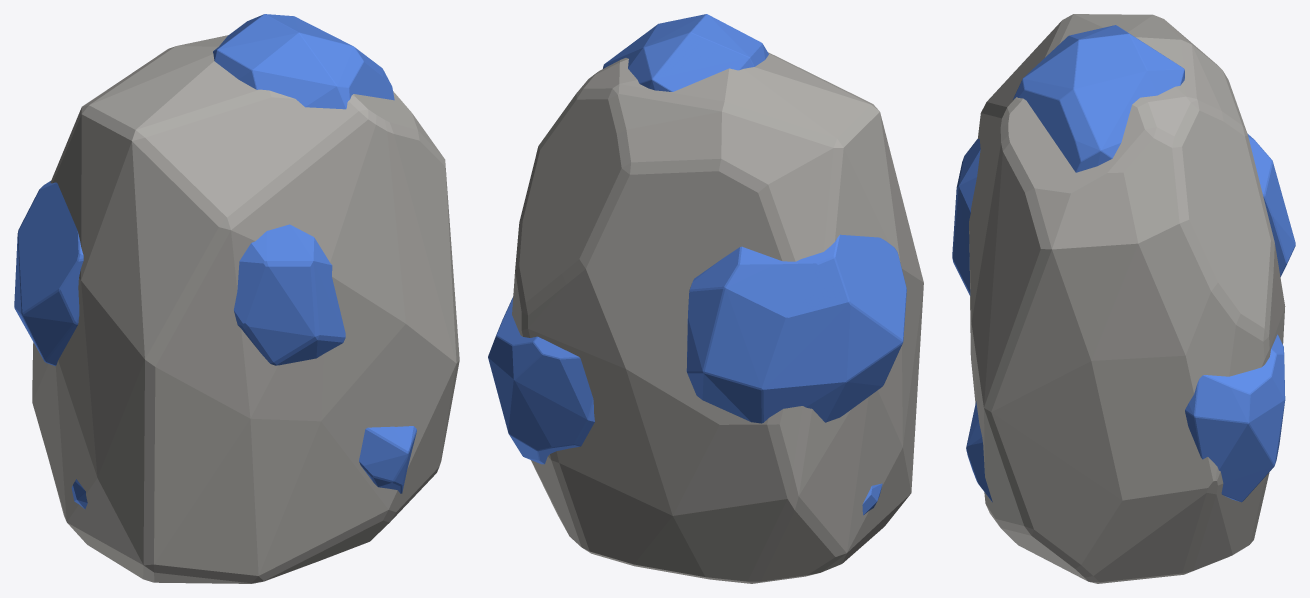
File: ore_vein_cobalt.glb
3 renders of one model, left to right at view 1: azimuth 30°, elevation 25°; view 2: azimuth 150°, elevation 25°; view 3: azimuth 270°, elevation 25°, orthographic. The views are drawn at different scales.
Visible parts, largest first — view 1: OreVein_Cobalt_Rock, OreVein_Cobalt; view 2: OreVein_Cobalt_Rock, OreVein_Cobalt; view 3: OreVein_Cobalt_Rock, OreVein_Cobalt.
Boxes of the visible parts, x1=… form: OreVein_Cobalt_Rock: x1=32, y1=35, x2=459, y2=583; OreVein_Cobalt: x1=14, y1=14, x2=416, y2=509; OreVein_Cobalt_Rock: x1=512, y1=52, x2=923, y2=583; OreVein_Cobalt: x1=488, y1=14, x2=906, y2=515; OreVein_Cobalt_Rock: x1=969, y1=14, x2=1285, y2=583; OreVein_Cobalt: x1=952, y1=25, x2=1295, y2=502.
Size of the model in its own units: 1.05 by 1.29 by 0.8181.
